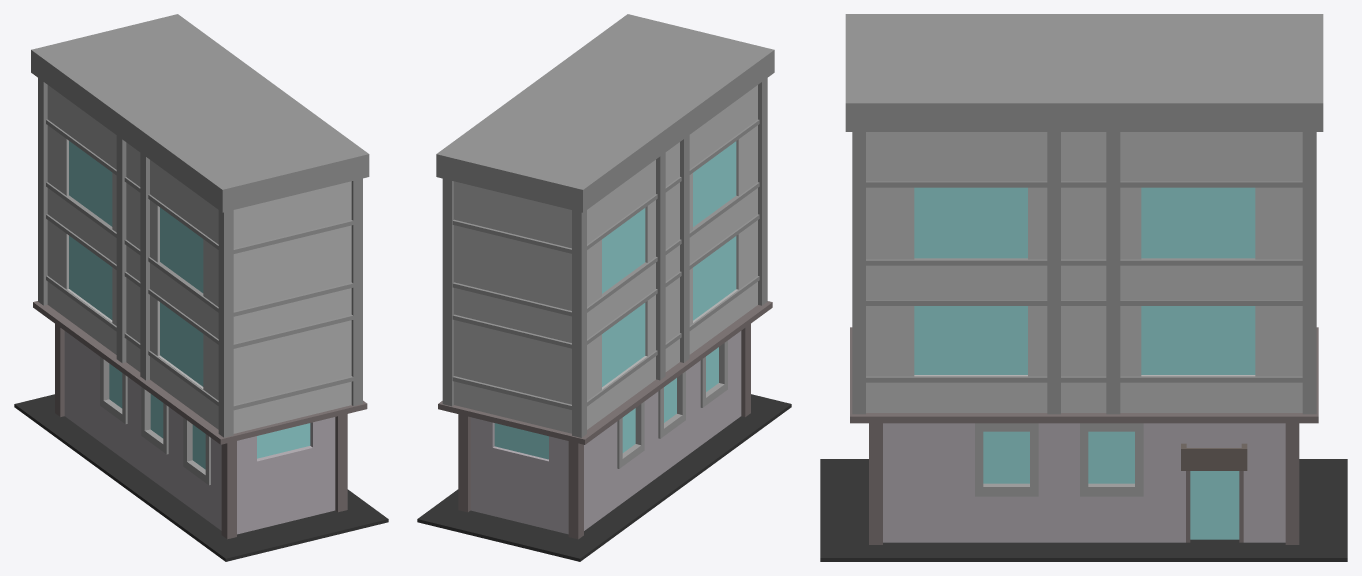
File: SmallBuilding2.fbx
3 views of the same model, side by side, from view 1: azimuth 30°, elevation 25°; view 2: azimuth 150°, elevation 25°; view 3: azimuth 270°, elevation 25° (orthographic). The views are drawn at different scales.
Parts seen in each view (by area): view 1: Cube.001, Cube.008, Cube.002, Cube, Cube.023, Cube.009, Cube.013, Cube.007, Cube.016, Cube.015, Cube.014, Cube.017 (+11 smaller); view 2: Cube.001, Cube.008, Cube.002, Cube, Cube.023, Cube.009, Cube.014, Cube.010, Cube.015, Cube.013, Cube.016, Cube.017 (+11 smaller); view 3: Cube.001, Cube.008, Cube.002, Cube.022, Cube, Cube.009, Cube.010, Cube.012, Cube.007, Cube.011, Cube.029, Cube.017 (+10 smaller).
Part boxes in pixels (x1,y1,x2,y2): Cube.001: (47,85,351,433); Cube.008: (31,14,369,212); Cube.002: (64,331,335,534); Cube: (14,394,388,561); Cube.023: (69,141,203,386); Cube.009: (33,301,367,444); Cube.013: (218,210,233,437); Cube.007: (351,178,362,405); Cube.016: (116,135,126,363); Cube.015: (140,153,149,380); Cube.014: (38,78,47,305); Cube.017: (46,182,353,316); Cube.001: (454,85,757,433); Cube.008: (436,14,774,212); Cube.002: (470,331,741,534); Cube: (417,394,791,561); Cube.023: (602,141,736,386); Cube.009: (438,301,772,444); Cube.014: (572,210,586,437); Cube.010: (442,178,453,406); Cube.015: (680,135,689,362); Cube.013: (758,78,767,305); Cube.016: (656,152,665,380); Cube.017: (452,182,759,316); Cube.001: (866,132,1302,412); Cube.008: (845,14,1323,131); Cube.002: (883,423,1285,542); Cube.022: (914,187,1255,374); Cube: (820,459,1347,561); Cube.009: (850,327,1318,423); Cube.010: (1302,132,1316,414); Cube.012: (1106,132,1120,414); Cube.007: (852,132,865,414); Cube.011: (1047,132,1060,414); Cube.029: (1190,471,1239,539); Cube.017: (866,258,1302,265).
Size of the model in its own units: 1907 by 4162 by 4289.
